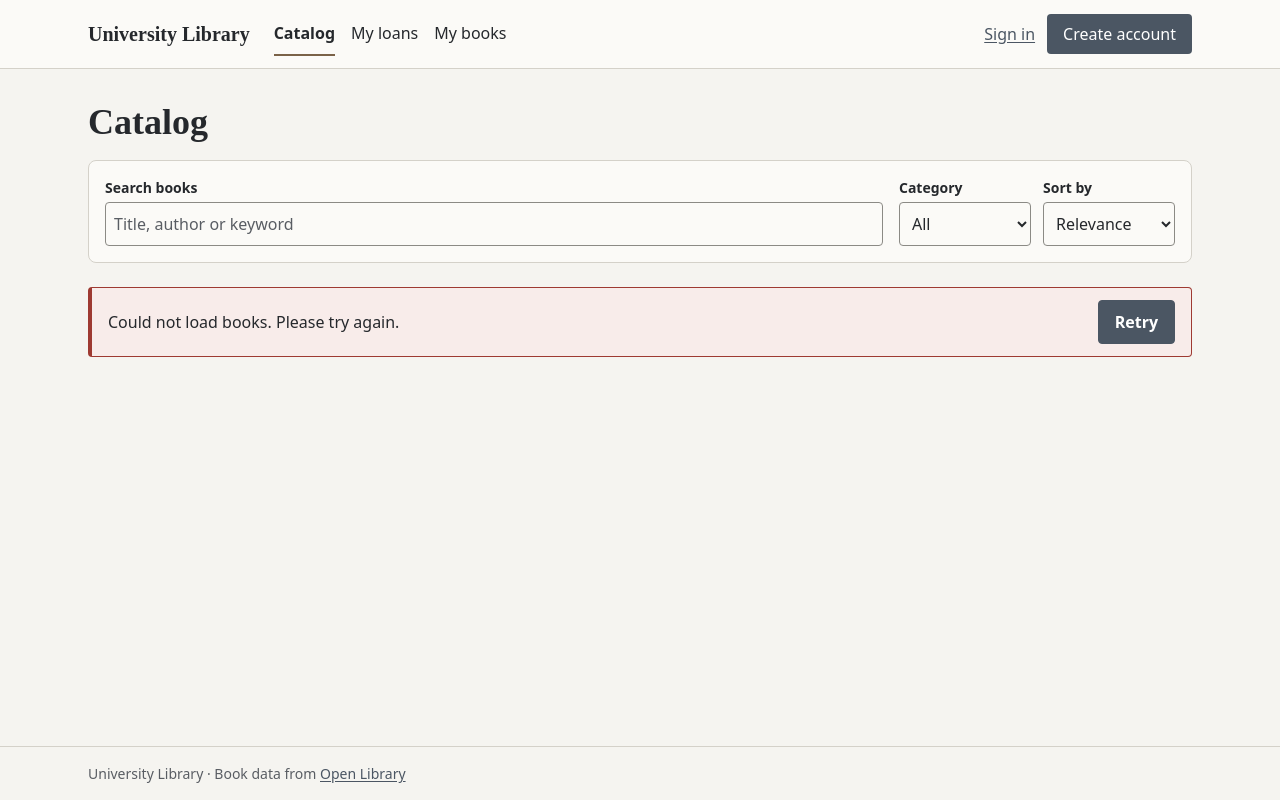
Catálogo (integración) › si Open Library falla muestra la alerta y "Reintentar" vuelve a cargar
This screenshot has width=1280, height=800.
expect the message reads "Could not load books. Please try again.": met, box [108,311,399,333]
Click the button "Retry" at point(1136, 322), box [1098,300,1175,344]
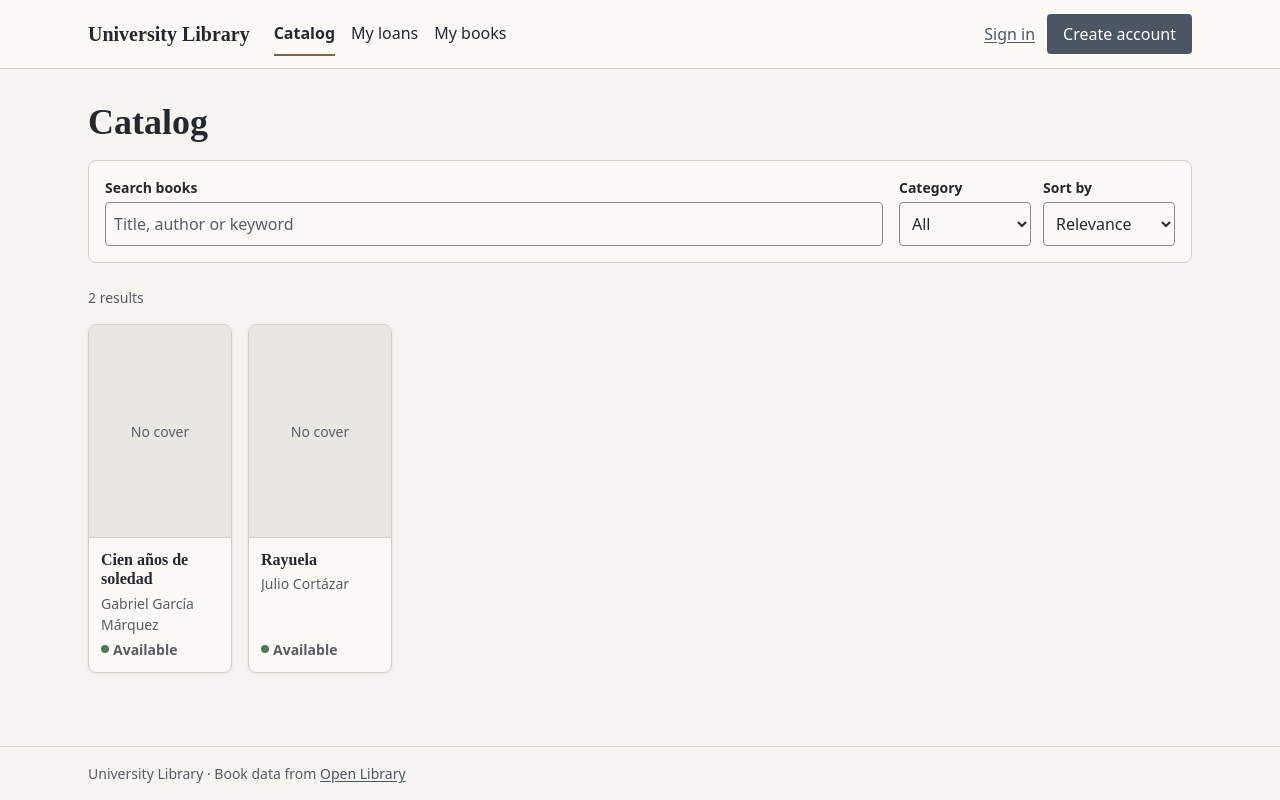
expect the link "Cien años de soledad" is shown: met, box [101,551,188,587]
